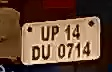0: (57, 42, 66, 59)
1: (61, 23, 73, 43), (74, 40, 83, 60)
4: (81, 40, 91, 58), (72, 24, 82, 40)
7: (66, 42, 75, 58)
D: (30, 44, 42, 63)
P: (51, 23, 60, 42)
U: (39, 24, 51, 42), (41, 44, 52, 61)
